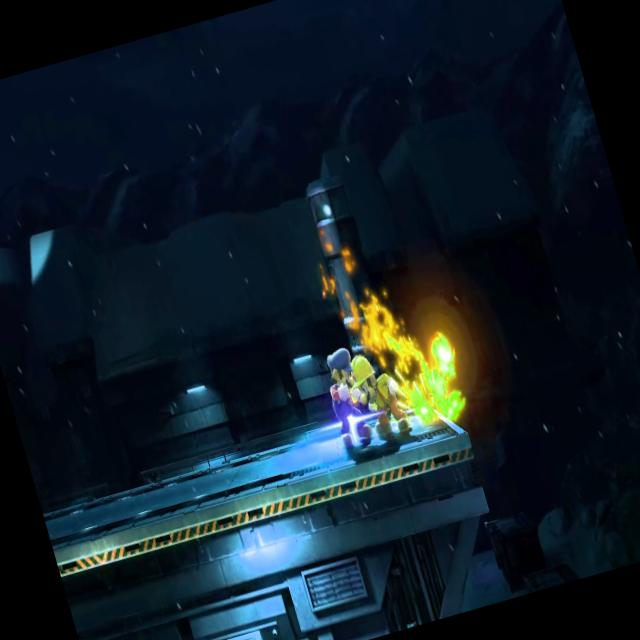Mario: (312, 338, 378, 451)
Mario-Sa: (338, 341, 416, 448)
